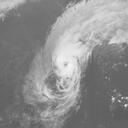cyclone: (51, 51, 79, 78)
